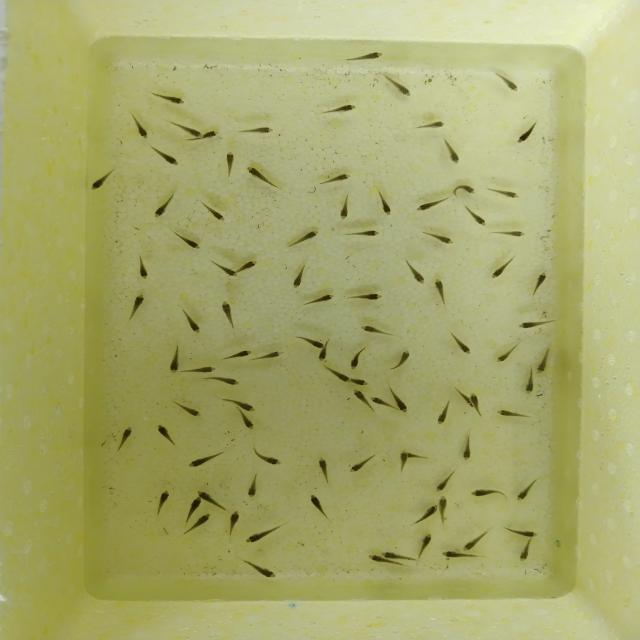fingerling: (461, 523, 493, 554), (181, 511, 213, 538), (244, 526, 282, 548), (184, 449, 223, 470), (86, 170, 115, 196), (386, 74, 416, 98), (419, 228, 459, 246), (414, 195, 451, 214), (312, 496, 336, 525), (243, 164, 276, 185), (154, 144, 184, 167), (517, 474, 542, 501), (492, 256, 517, 282), (131, 112, 154, 140), (246, 561, 278, 581), (154, 191, 176, 220), (512, 120, 536, 146), (499, 338, 525, 362), (406, 259, 430, 285), (158, 425, 182, 451), (417, 532, 437, 563), (504, 522, 538, 540), (289, 232, 318, 253), (171, 403, 204, 421), (251, 449, 284, 467), (171, 119, 202, 138), (350, 452, 378, 473), (199, 202, 228, 222), (448, 336, 474, 358), (238, 412, 264, 434), (174, 233, 202, 253), (495, 70, 520, 92), (181, 309, 202, 335), (299, 292, 338, 306), (322, 365, 352, 383), (516, 537, 535, 565), (248, 349, 286, 363), (225, 400, 260, 415), (319, 171, 356, 185), (392, 349, 414, 372), (212, 260, 240, 278), (520, 320, 556, 334), (532, 271, 552, 296), (128, 292, 147, 318), (224, 508, 241, 536), (314, 454, 331, 482), (413, 504, 438, 523), (442, 138, 460, 164), (348, 51, 387, 63), (347, 351, 368, 373), (437, 469, 456, 493), (156, 92, 188, 106), (437, 398, 453, 426), (460, 428, 474, 460), (154, 488, 170, 516), (217, 347, 254, 359), (350, 292, 386, 304), (343, 228, 386, 238), (298, 336, 328, 350), (464, 207, 486, 226), (291, 264, 307, 290), (489, 229, 529, 239), (206, 375, 239, 387), (116, 428, 134, 450), (524, 369, 539, 395), (219, 300, 235, 324), (239, 125, 281, 134), (248, 471, 262, 498), (537, 347, 552, 372), (378, 196, 395, 218), (136, 256, 152, 279), (433, 276, 446, 304), (488, 188, 518, 200), (383, 549, 413, 561), (200, 127, 223, 142), (360, 327, 391, 338), (471, 487, 505, 497), (402, 449, 426, 463), (339, 196, 351, 224), (327, 102, 360, 112), (183, 365, 216, 375), (169, 343, 179, 376), (441, 546, 466, 559), (413, 121, 445, 131), (453, 185, 477, 198), (352, 387, 369, 405), (494, 410, 524, 420), (225, 150, 236, 177), (438, 495, 448, 522), (394, 398, 409, 415), (397, 449, 410, 468), (470, 391, 480, 415), (365, 554, 383, 566), (196, 491, 215, 502), (241, 258, 260, 269), (372, 397, 391, 408), (190, 496, 202, 512), (348, 379, 371, 386), (316, 352, 328, 362)
